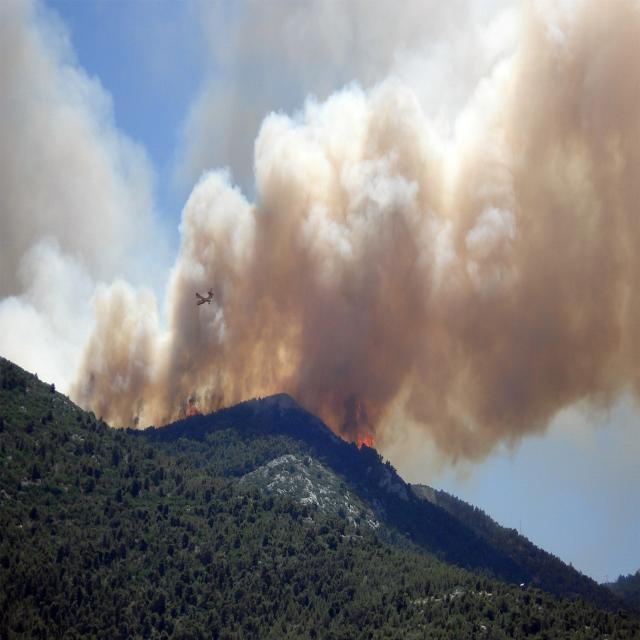Fire: (355, 402, 373, 450), (184, 400, 200, 418)
Smoke: (0, 0, 640, 460)
